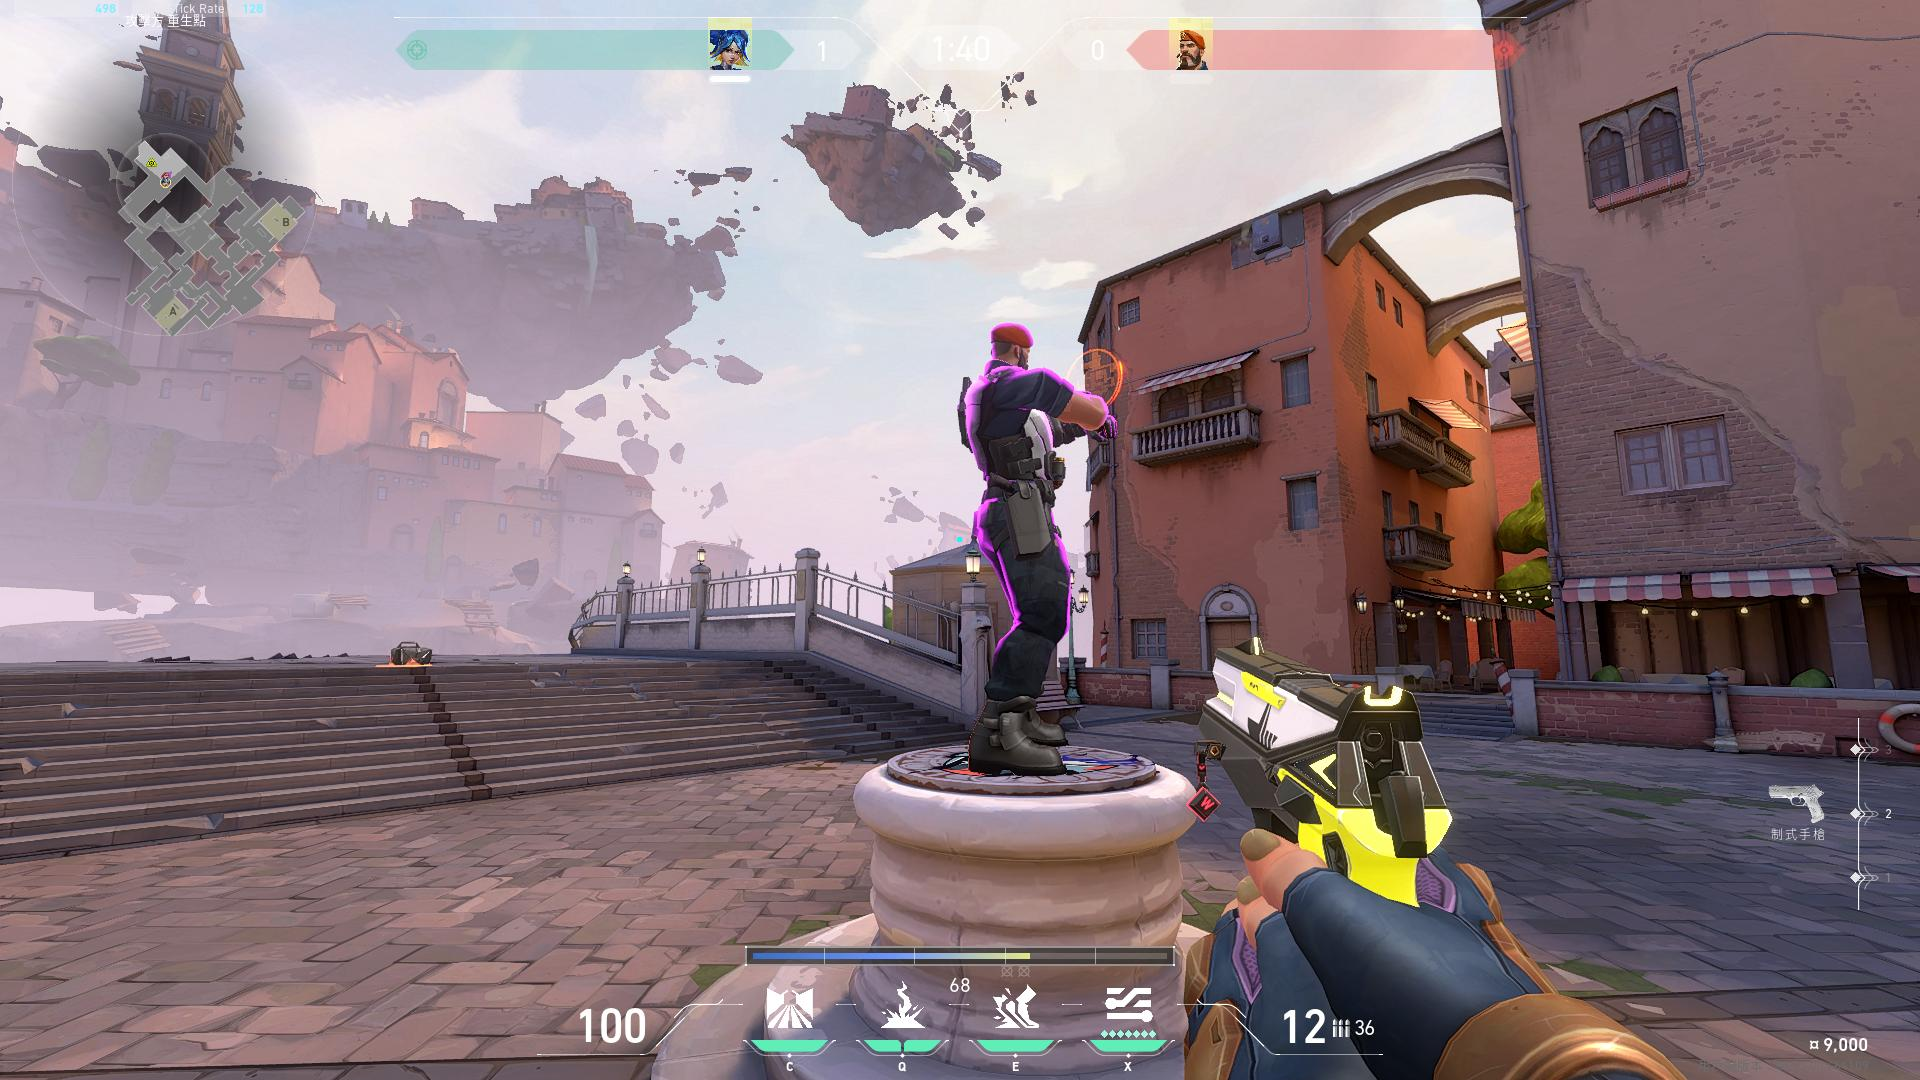enemyBody: (964, 371, 1058, 502)
enemyHead: (984, 324, 1033, 371)
